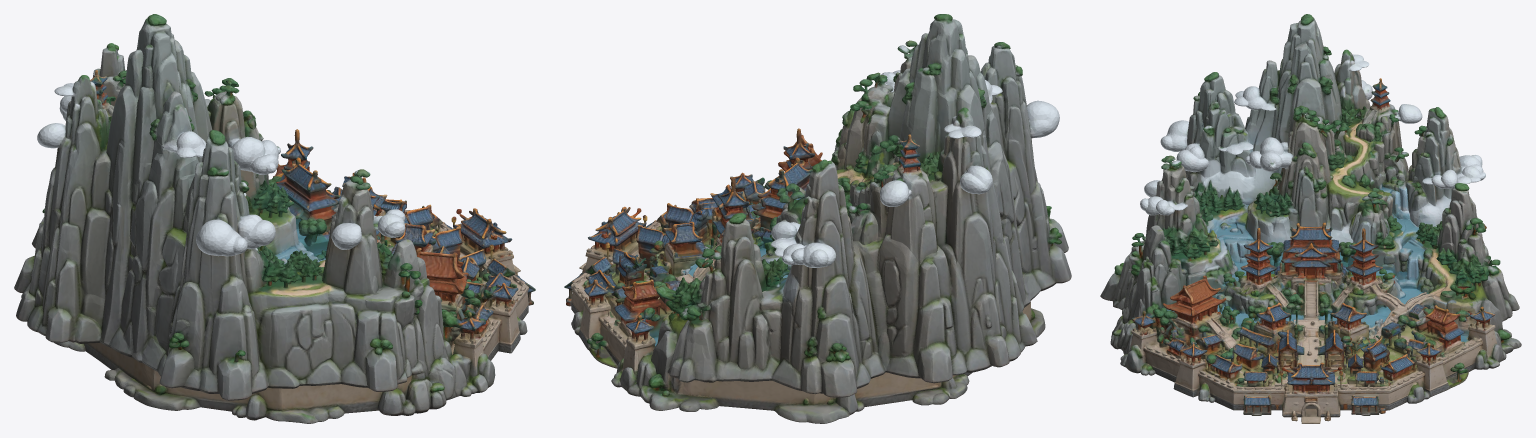
File: asian+temple+island+3d+model.glb
The picture shows the model from 3 angles, left to right: view 1: azimuth 30°, elevation 25°; view 2: azimuth 150°, elevation 25°; view 3: azimuth 270°, elevation 25°; orthographic projection. The views are drawn at different scales.
Visible parts, largest first — view 1: tripo_node_aec2b666-b61a-4467-91ee-6c7707d1fe34; view 2: tripo_node_aec2b666-b61a-4467-91ee-6c7707d1fe34; view 3: tripo_node_aec2b666-b61a-4467-91ee-6c7707d1fe34.
Boxes of the visible parts, x1=… form: tripo_node_aec2b666-b61a-4467-91ee-6c7707d1fe34: x1=14, y1=14, x2=535, y2=423; tripo_node_aec2b666-b61a-4467-91ee-6c7707d1fe34: x1=564, y1=14, x2=1071, y2=423; tripo_node_aec2b666-b61a-4467-91ee-6c7707d1fe34: x1=1100, y1=14, x2=1521, y2=423.
Size of the model in its own units: 1 by 0.7053 by 0.9979.
1 material, 1 textured.
